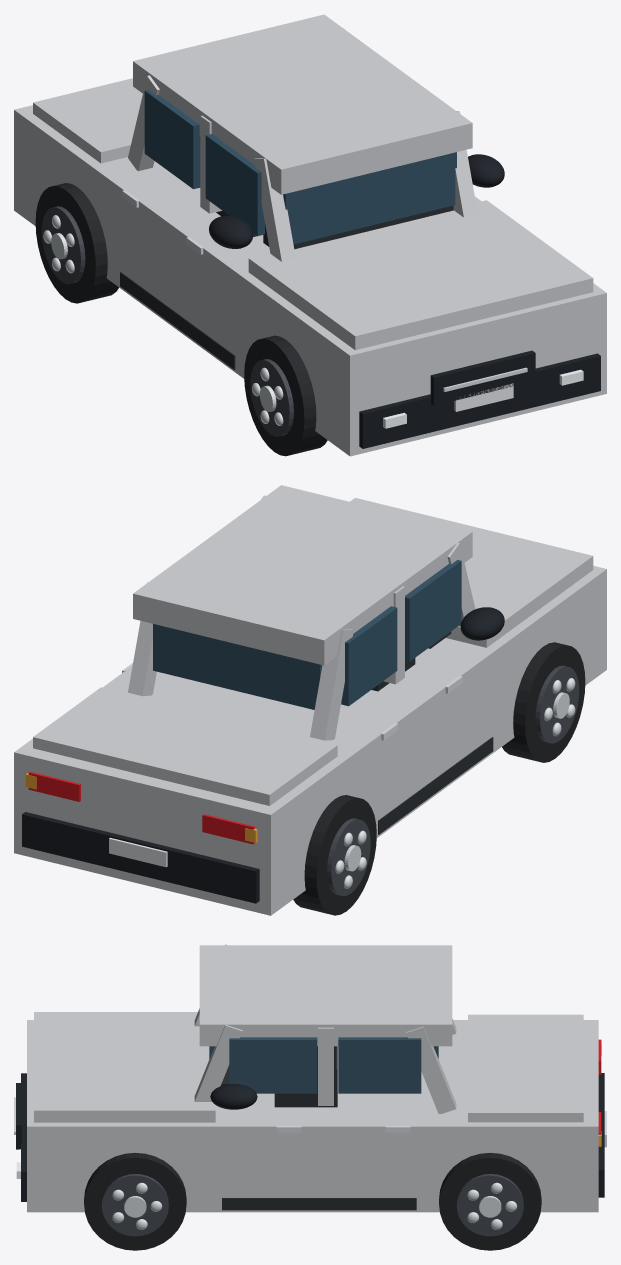
Rendered from auto7.glb.
The picture shows the model from 3 angles, top to bottom: view 1: azimuth 30°, elevation 25°; view 2: azimuth 150°, elevation 25°; view 3: azimuth 270°, elevation 25°; orthographic projection. The views are drawn at different scales.
Visible parts, largest first — view 1: Carroceria_Inferior, Techo_Blanco, Capo_Delantero, Parabrisas, Defensa_Delantera_Negra, Cajuela_Trasera, Llanta_Delantera_-1, Llanta_Trasera_-1, Ventana_Delantera_-1, Ventana_Trasera_-1, Parrilla_Delantera, Pilar_Parabrisas_-1 (+10 smaller); view 2: Carroceria_Inferior, Techo_Blanco, Cajuela_Trasera, Capo_Delantero, Medallon_Trasero, Defensa_Trasera, Llanta_Trasera_-1, Llanta_Delantera_-1, Ventana_Delantera_-1, Ventana_Trasera_-1, Pilar_Trasero_-1, Rin_Grafito_Delantera_-1 (+9 smaller); view 3: Carroceria_Inferior, Techo_Blanco, Capo_Delantero, Cajuela_Trasera, Ventana_Delantera_1, Llanta_Delantera_1, Llanta_Trasera_1, Ventana_Trasera_1, Rin_Grafito_Trasera_1, Rin_Grafito_Delantera_1, Zocalo_Negro_1, Pilar_Trasero_1 (+6 smaller).
Boxes of the visible parts, x1,y1,x2,y2 form: Carroceria_Inferior: (14, 105, 606, 456); Techo_Blanco: (133, 14, 472, 194); Capo_Delantero: (248, 200, 593, 350); Parabrisas: (283, 152, 456, 244); Defensa_Delantera_Negra: (359, 353, 600, 448); Cajuela_Trasera: (33, 78, 142, 163); Llanta_Delantera_-1: (244, 335, 327, 456); Llanta_Trasera_-1: (35, 183, 118, 303); Ventana_Delantera_-1: (205, 134, 264, 236); Ventana_Trasera_-1: (144, 90, 200, 189); Parrilla_Delantera: (430, 350, 535, 405); Pilar_Parabrisas_-1: (253, 155, 295, 261); Carroceria_Inferior: (14, 566, 606, 915); Techo_Blanco: (133, 485, 472, 665); Cajuela_Trasera: (33, 687, 337, 805); Capo_Delantero: (350, 498, 593, 647); Medallon_Trasero: (153, 624, 322, 709); Defensa_Trasera: (22, 812, 259, 903); Llanta_Trasera_-1: (293, 795, 376, 915); Llanta_Delantera_-1: (502, 642, 585, 762); Ventana_Delantera_-1: (405, 560, 461, 661); Ventana_Trasera_-1: (341, 606, 397, 706); Pilar_Trasero_-1: (310, 629, 353, 740); Rin_Grafito_Delantera_-1: (535, 665, 579, 743); Carroceria_Inferior: (27, 1020, 598, 1212); Techo_Blanco: (199, 945, 452, 1046); Capo_Delantero: (34, 1012, 215, 1122); Cajuela_Trasera: (468, 1014, 583, 1122); Ventana_Delantera_1: (229, 1037, 317, 1093); Llanta_Delantera_1: (84, 1152, 186, 1250); Llanta_Trasera_1: (439, 1152, 541, 1250); Ventana_Trasera_1: (338, 1037, 421, 1093); Rin_Grafito_Trasera_1: (456, 1174, 523, 1236); Rin_Grafito_Delantera_1: (101, 1174, 168, 1236); Zocalo_Negro_1: (222, 1198, 416, 1210); Pilar_Trasero_1: (406, 1026, 456, 1113).
Size of the model in its own units: 2.23 by 1.74 by 4.51.
